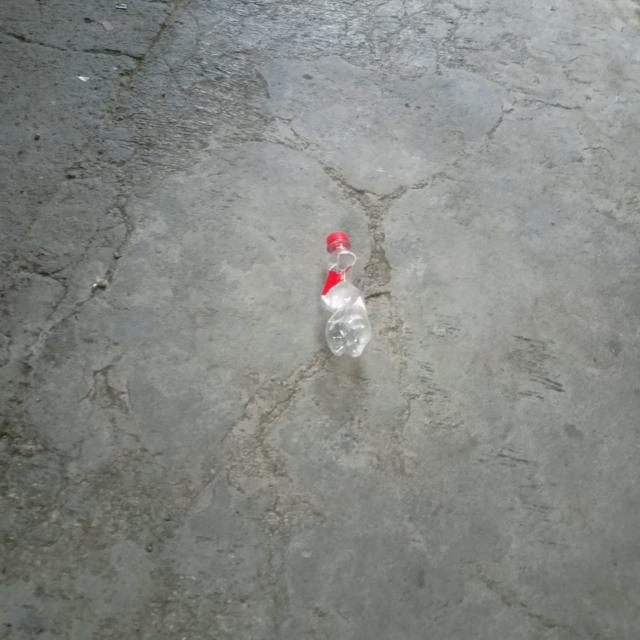Bottle: (321, 232, 371, 357)
